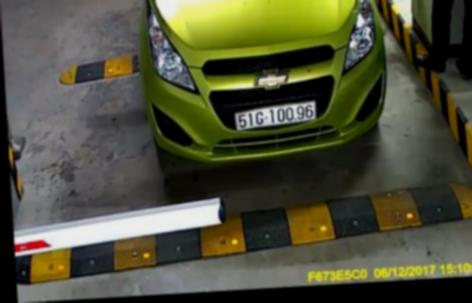License_Plate: (232, 97, 320, 134)
